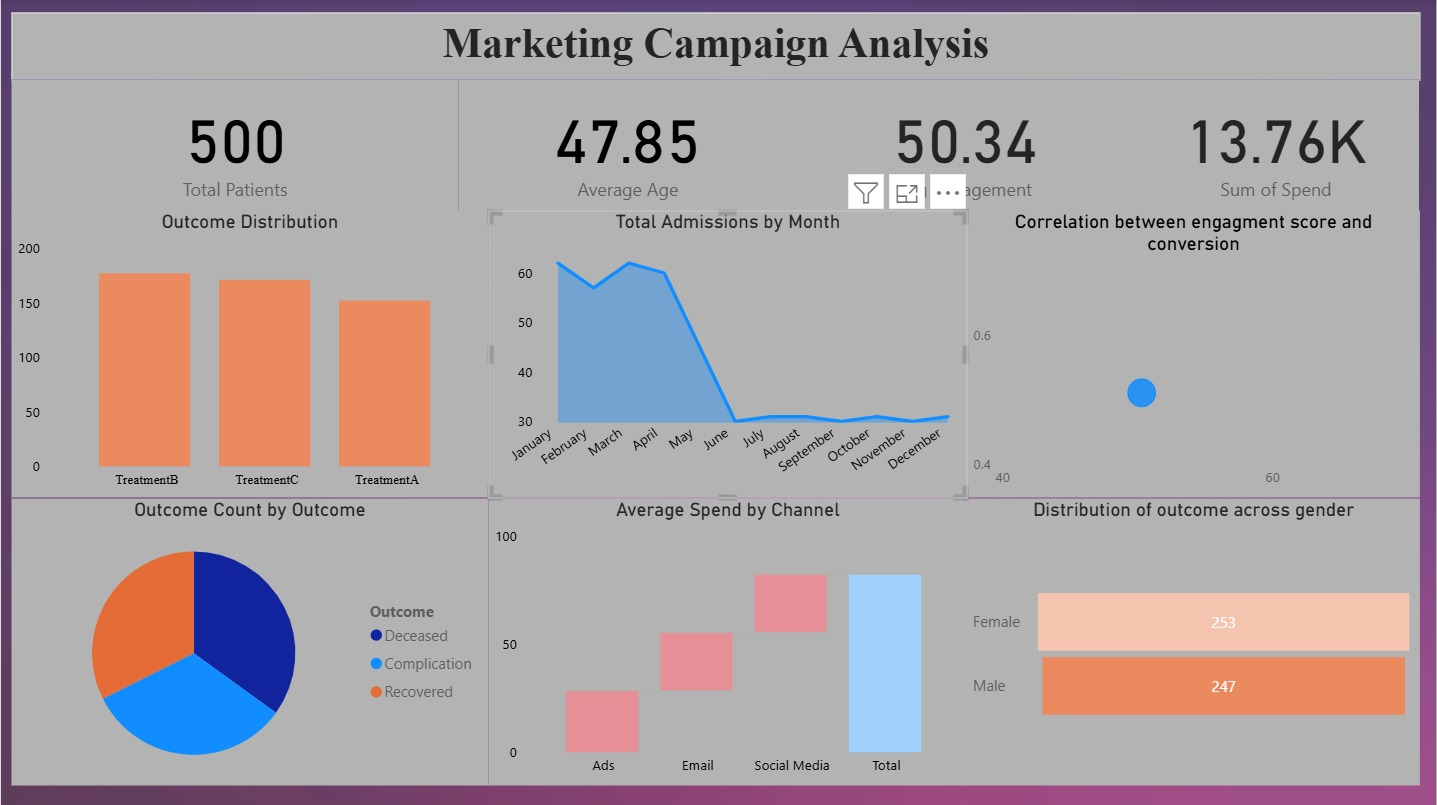

The dashboard page shown, as its layout file describes it:
{"tool":"powerbi","page":{"name":"Page 1","canvas":[1280,720],"ordinal":0},"visuals":[{"type":"columnChart","title":"Outcome Distribution","fields":{"Category":["cleaned_data.Treatment"],"Y":["cleaned_data.Patient Count"]},"box":[9.1,189.3,425.5,255.9],"z":0},{"type":"pieChart","fields":{"Category":["cleaned_data.Outcome"],"Y":["cleaned_data.Outcome Count"]},"box":[9.1,445.2,425.5,255.9],"z":1000},{"type":"areaChart","fields":{"Category":["cleaned_data.AdmissionDate.Variation.Date Hierarchy.Month"],"Y":["cleaned_data.Total Admissions"]},"box":[434.6,189.3,427,255.9],"z":2000},{"type":"waterfallChart","fields":{"Category":["cleaned_data.Channel"],"Y":["cleaned_data.Average Spend"]},"box":[434.6,445.2,427,255.9],"z":3000},{"type":"scatterChart","title":"Correlation between engagment score and conversion","fields":{"X":["cleaned_data.Avg Engagement"],"Y":["cleaned_data.Avg Conversion"],"Size":["cleaned_data.Total Patients"]},"box":[861.6,189.3,404.3,255.9],"z":4000},{"type":"funnel","title":"Distribution of outcome across gender","fields":{"Category":["cleaned_data.Gender","cleaned_data.Outcome"],"Y":["cleaned_data.Patient Count"]},"box":[861.6,445.2,404.3,255.9],"z":5000},{"type":"textbox","box":[9.4,12.5,1256.2,59.4],"z":6000},{"type":"card","fields":{"Values":["cleaned_data.Total Patients"]},"box":[9.4,71.9,398.4,117.2],"z":7000},{"type":"card","fields":{"Values":["cleaned_data.Average Age"]},"box":[407.8,71.9,301.6,117.2],"z":8000},{"type":"card","fields":{"Values":["cleaned_data.Avg Engagement"]},"box":[709.4,71.9,300,117.2],"z":9000},{"type":"card","fields":{"Values":["Sum(cleaned_data.Spend)"]},"box":[1009.4,71.9,256.2,117.2],"z":10000}]}

Visuals, with their boxes in screenshot pixels (x1, y1, x2, y2), scaled from the page's 1280x720 canvas onto the 1437x805 screenshot:
"Outcome Distribution" columnChart: (10, 212, 488, 498)
pieChart - cleaned_data.Outcome x cleaned_data.Outcome Count: (10, 498, 488, 784)
areaChart - cleaned_data.AdmissionDate.Variation.Date Hierarchy.Month x cleaned_data.Total Admissions: (488, 212, 967, 498)
waterfallChart - cleaned_data.Channel x cleaned_data.Average Spend: (488, 498, 967, 784)
"Correlation between engagment score and conversion" scatterChart: (967, 212, 1421, 498)
"Distribution of outcome across gender" funnel: (967, 498, 1421, 784)
textbox: (11, 14, 1421, 80)
card - cleaned_data.Total Patients: (11, 80, 458, 211)
card - cleaned_data.Average Age: (458, 80, 796, 211)
card - cleaned_data.Avg Engagement: (796, 80, 1133, 211)
card - Sum(cleaned_data.Spend): (1133, 80, 1421, 211)
